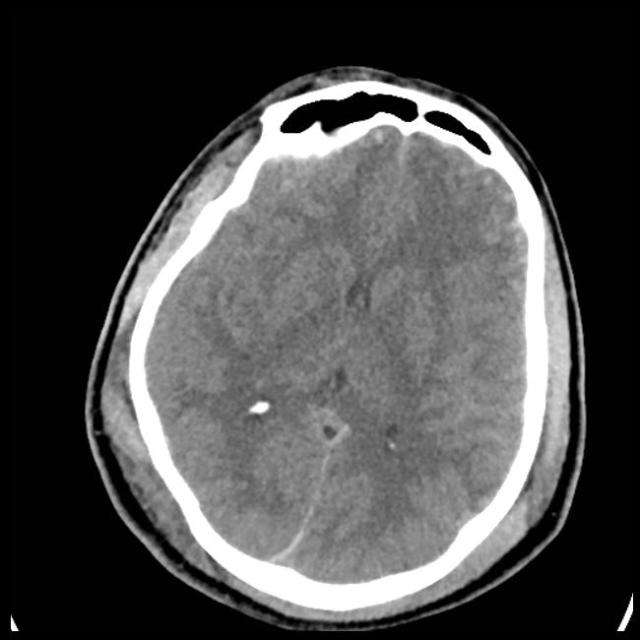lesion: (84, 65, 587, 628)
